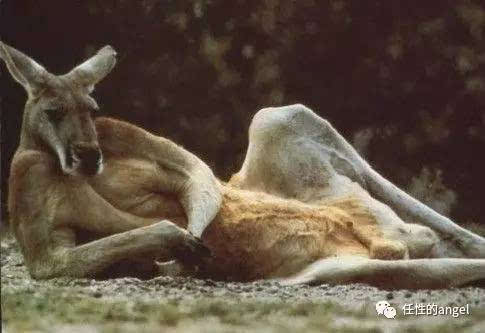kangaroo: (1, 36, 485, 294)
